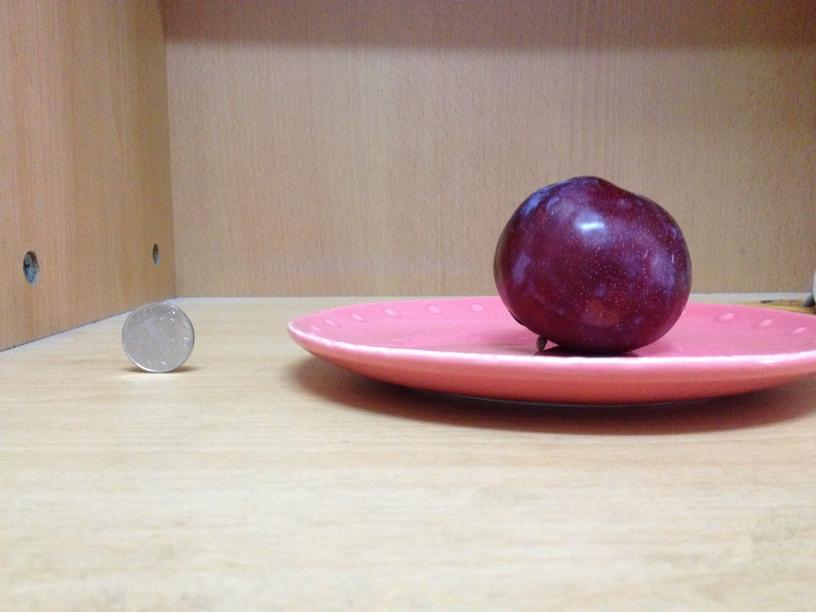coin: (124, 302, 192, 372)
plum: (492, 174, 692, 350)
